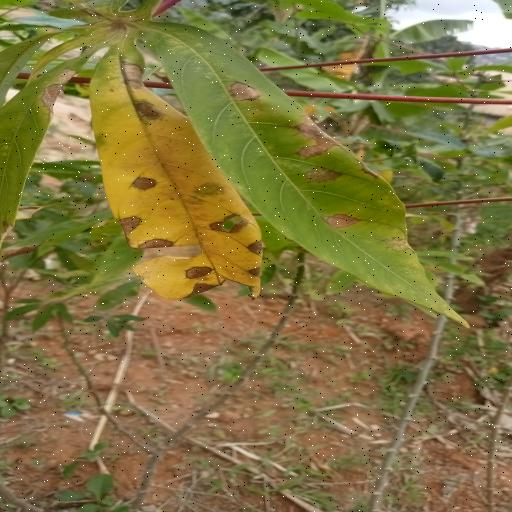Cassava_Root_Rot: (0, 0, 471, 331)
